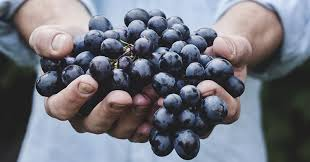Black grapes: (111, 32, 219, 85)
